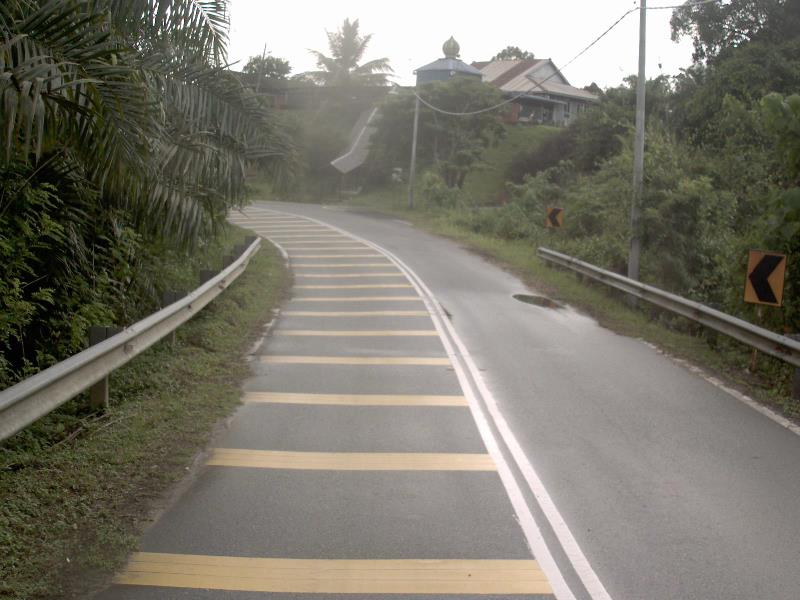traffic_sign: (736, 239, 792, 317)
